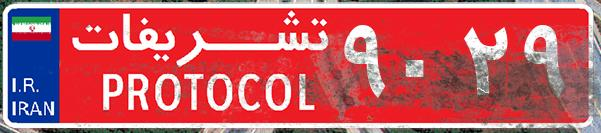0: (400, 20, 460, 115)
2: (460, 20, 520, 115)
9: (340, 20, 400, 115), (520, 20, 580, 115)
تشریفات: (60, 8, 340, 125)
